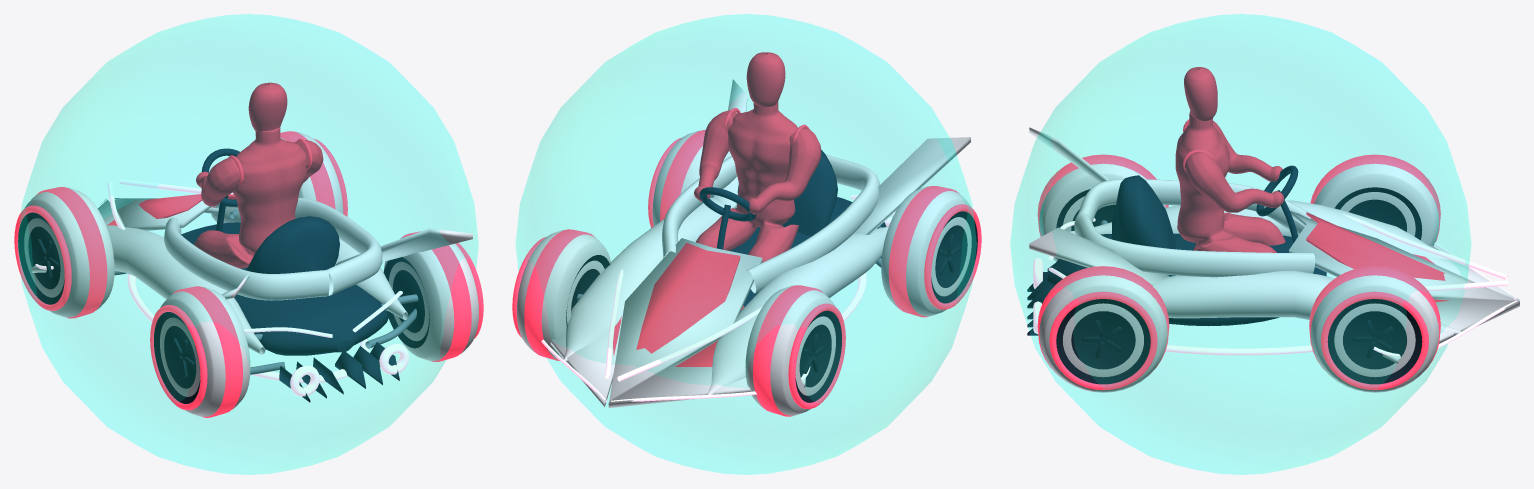
The model's file is signal.glb.
3 renders of one model, left to right at view 1: azimuth 30°, elevation 25°; view 2: azimuth 150°, elevation 25°; view 3: azimuth 270°, elevation 25°, orthographic.
Visible parts, largest first — view 1: signal:aegis-shield, signal:coachwork-batch.001, signal:coachwork-batch, signal:torso, signal:rounded-wheel-shell.003, signal:rounded-wheel-shell.002, signal:rounded-wheel-shell, signal:translucent-tire-band.002, signal:translucent-tire-band, signal:recessed-colored-hub.002, signal:translucent-tire-band.003, signal:recessed-colored-hub (+15 smaller); view 2: signal:aegis-shield, signal:coachwork-batch.001, signal:torso, signal:arrow-bonnet-inlay, signal:rounded-wheel-shell.002, signal:rounded-wheel-shell, signal:rounded-wheel-shell.001, signal:coachwork-batch, signal:translucent-tire-band, signal:translucent-tire-band.002, signal:translucent-tire-band.001, signal:arm-l-mesh (+15 smaller); view 3: signal:aegis-shield, signal:coachwork-batch.001, signal:torso, signal:coachwork-batch, signal:rounded-wheel-shell.003, signal:rounded-wheel-shell.001, signal:recessed-colored-hub.003, signal:rounded-wheel-shell, signal:recessed-colored-hub.001, signal:arrow-bonnet-inlay, signal:arm-r-mesh, signal:rounded-wheel-shell.002 (+13 smaller).
Boxes of the visible parts, x1,y1,x2,y2 form: signal:aegis-shield: (18,14,478,474); signal:coachwork-batch.001: (32,197,472,354); signal:coachwork-batch: (181,195,399,402); signal:torso: (194,127,306,268); signal:rounded-wheel-shell.003: (383,235,478,360); signal:rounded-wheel-shell.002: (160,287,250,416); signal:rounded-wheel-shell: (24,187,114,317); signal:translucent-tire-band.002: (173,286,242,417); signal:translucent-tire-band: (36,187,107,318); signal:recessed-colored-hub.002: (154,312,200,403); signal:translucent-tire-band.003: (400,231,471,361); signal:recessed-colored-hub: (18,212,64,304); signal:aegis-shield: (516,14,976,474); signal:coachwork-batch.001: (550,79,970,407); signal:torso: (696,101,798,311); signal:arrow-bonnet-inlay: (636,242,740,353); signal:rounded-wheel-shell.002: (881,186,971,316); signal:rounded-wheel-shell: (745,285,835,415); signal:rounded-wheel-shell.001: (517,230,610,359); signal:coachwork-batch: (717,149,886,306); signal:translucent-tire-band: (753,285,823,416); signal:translucent-tire-band.002: (888,186,959,317); signal:translucent-tire-band.001: (524,229,595,360); signal:arm-l-mesh: (747,128,821,214); signal:aegis-shield: (1010,14,1471,474); signal:coachwork-batch.001: (1029,127,1519,363); signal:torso: (1175,111,1285,252); signal:coachwork-batch: (1027,175,1326,335); signal:rounded-wheel-shell.003: (1039,275,1167,392); signal:rounded-wheel-shell.001: (1310,275,1439,392); signal:recessed-colored-hub.003: (1056,299,1150,384); signal:rounded-wheel-shell: (1314,163,1439,245); signal:recessed-colored-hub.001: (1327,299,1422,384); signal:arrow-bonnet-inlay: (1306,212,1445,280); signal:arm-r-mesh: (1184,152,1284,212); signal:rounded-wheel-shell.002: (1039,163,1165,261).
Size of the model in its own units: 4.3 by 4.3 by 4.75.
